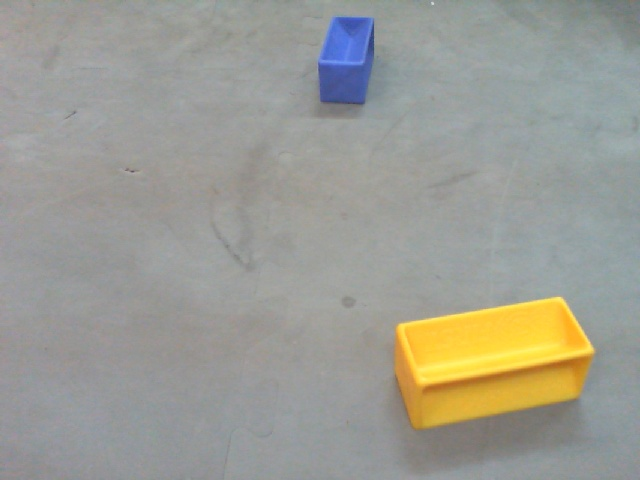BlueSample: (317, 14, 378, 108)
YellowSample: (388, 296, 600, 430)
